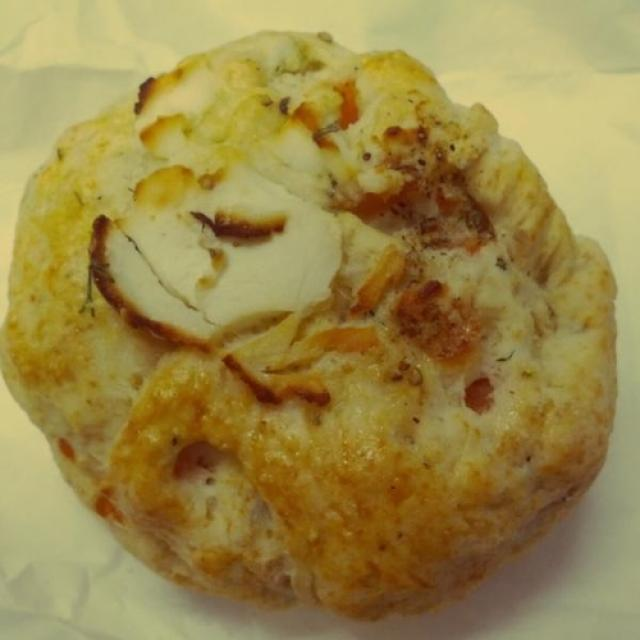面包点心: (4, 10, 627, 626)
